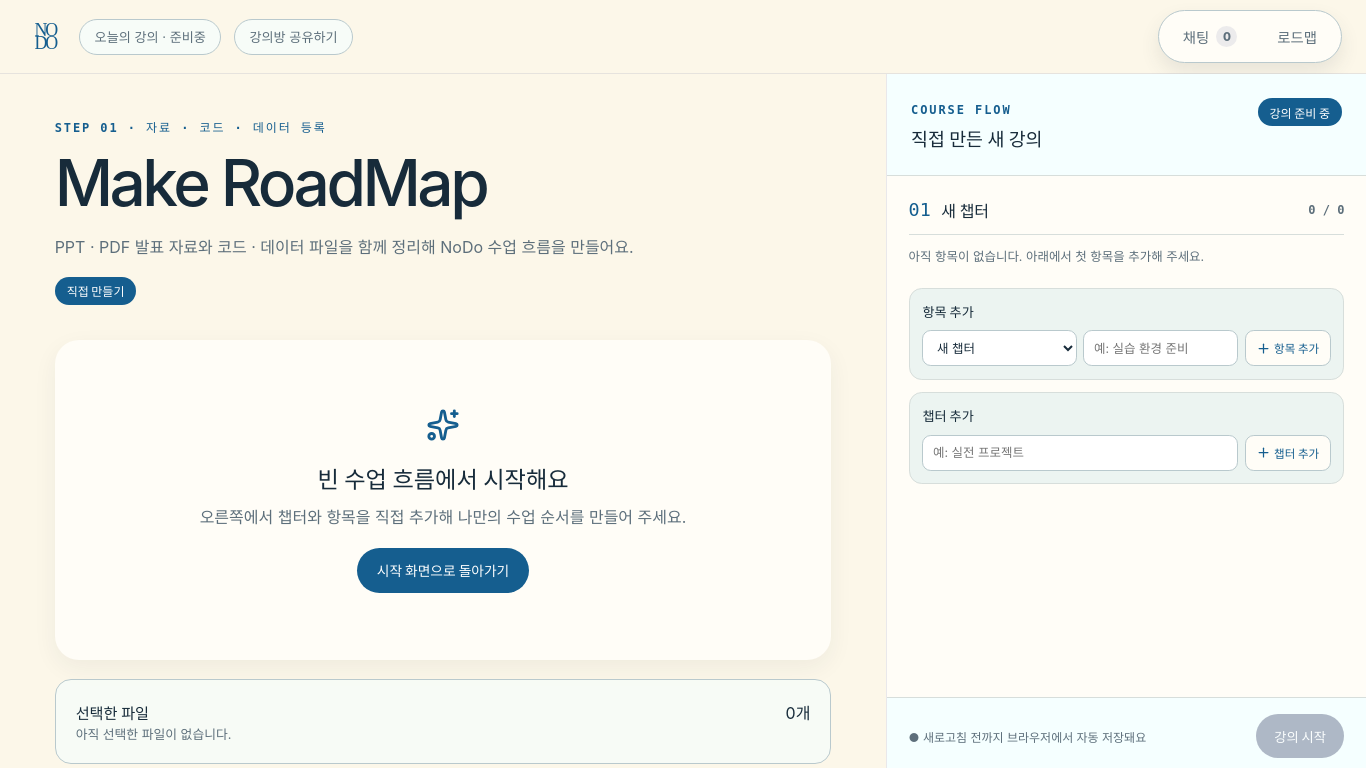
Test: AppRoutes › 직접 만들기 화면에서 시작 화면으로 돌아간다
Click the link "시작 화면으로 돌아가기". click: x=443, y=570
box: [357,548,529,592]
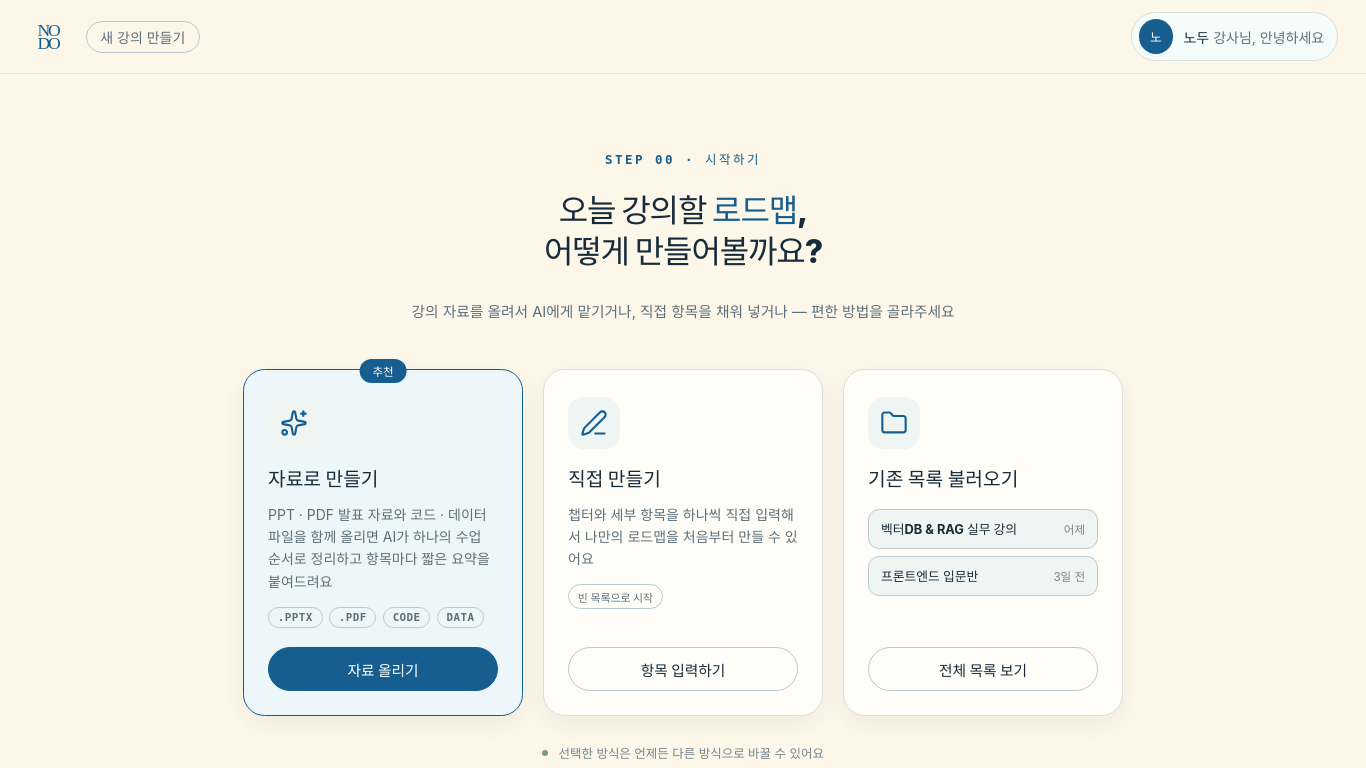
Check: the heading "오늘 강의할 로드맵,어떻게 만들어볼까요?" is shown, box [544,191,822,271]
